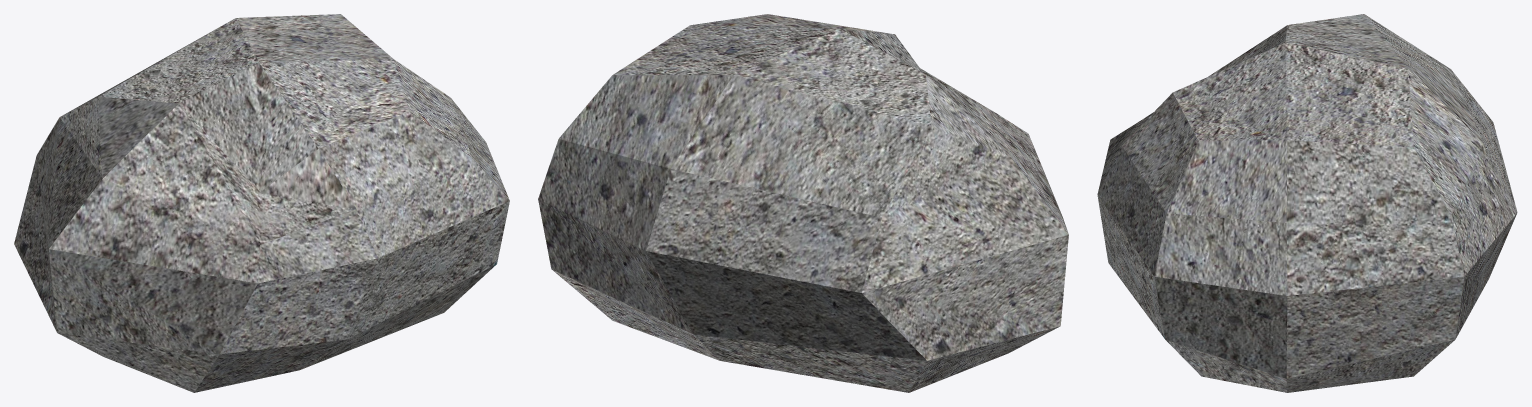
File: rock2.fbx
The picture shows the model from 3 angles, left to right: view 1: azimuth 30°, elevation 25°; view 2: azimuth 150°, elevation 25°; view 3: azimuth 270°, elevation 25°; orthographic projection. The views are drawn at different scales.
Parts seen in each view (by area): view 1: Cube.001; view 2: Cube.001; view 3: Cube.001.
Part boxes in pixels (box(x1,y1,x2,y2)): Cube.001: box(14, 14, 509, 392); Cube.001: box(538, 14, 1068, 392); Cube.001: box(1097, 14, 1517, 392).
Bounding box in the file's own units: 410 × 231 × 332.
Materials: 1 (1 with a texture image).
